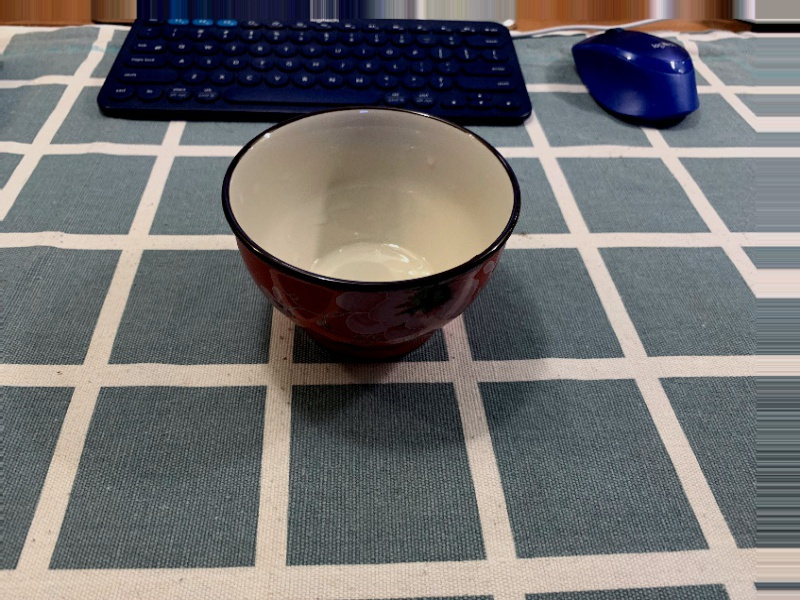bowl_small: (217, 100, 529, 369)
